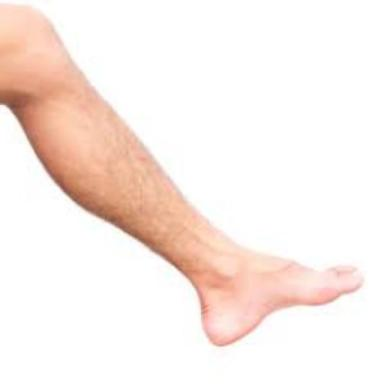normal skin: (0, 5, 363, 345)
